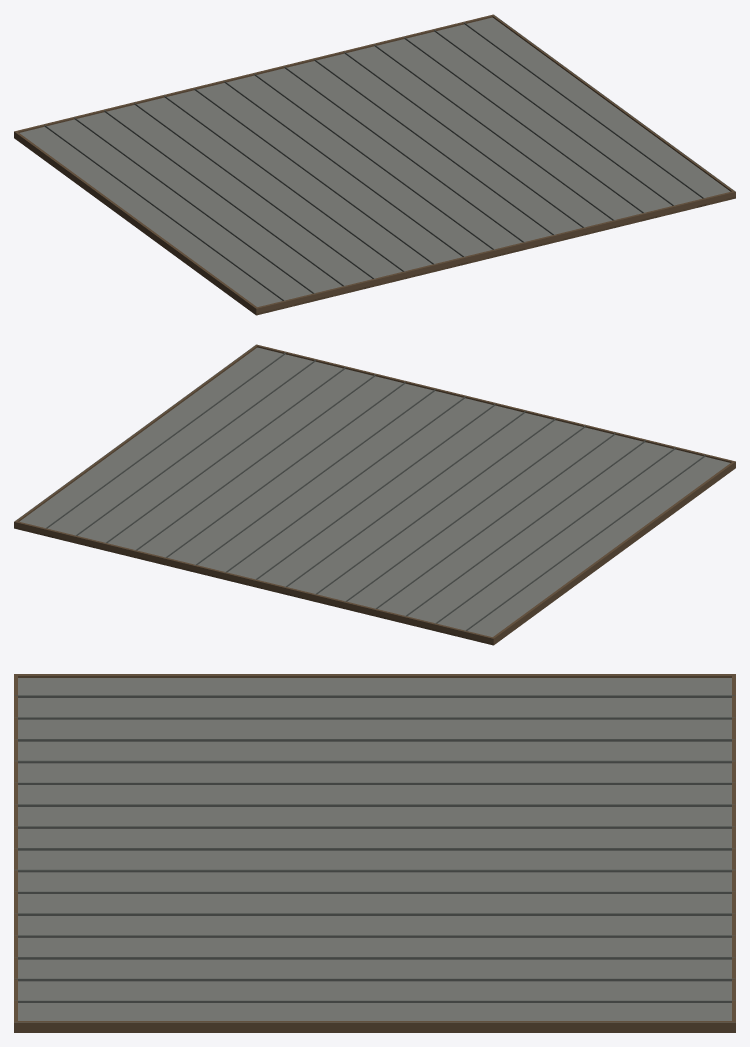
Rendered from RoofDeck.glb.
3 renders of one model, top to bottom at view 1: azimuth 30°, elevation 25°; view 2: azimuth 150°, elevation 25°; view 3: azimuth 270°, elevation 25°, orthographic. The views are drawn at different scales.
Visible parts, largest first — view 1: RoofDeck; view 2: RoofDeck; view 3: RoofDeck.
Part boxes in pixels (x1,y1,x2,y2): RoofDeck: (14,14,735,315); RoofDeck: (14,344,735,645); RoofDeck: (14,674,735,1032).
Size of the model in its own units: 16 by 0.215 by 14.
